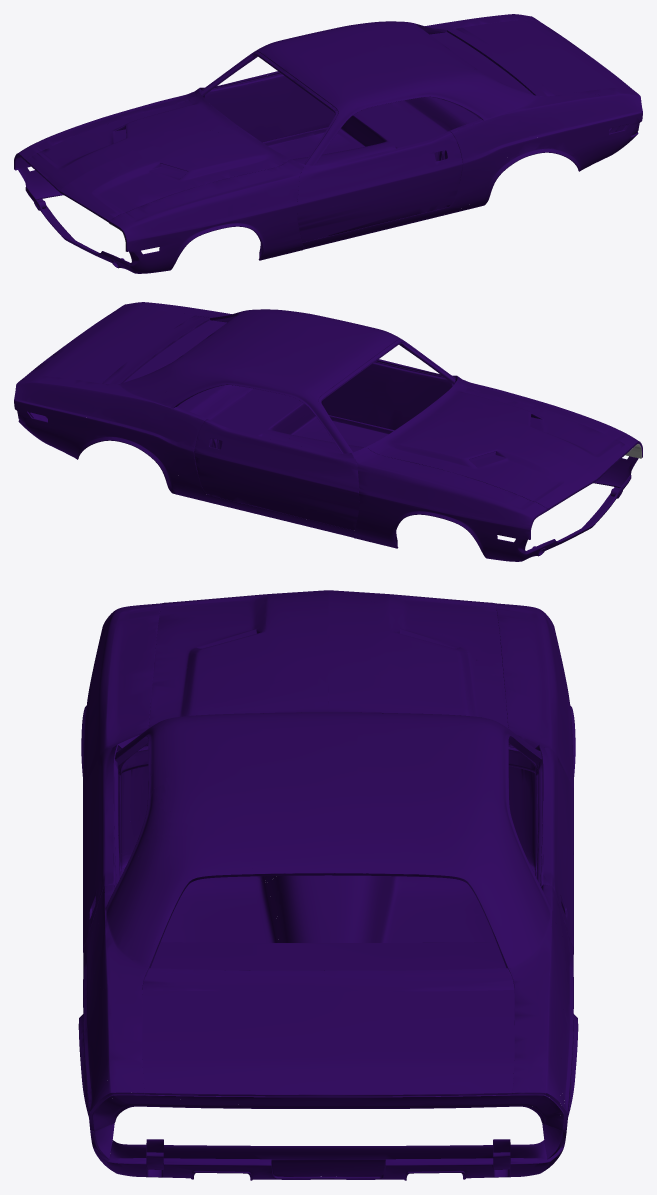
Rendered from car_body_optimised.obj.
3 views of the same model, one above another, from view 1: azimuth 30°, elevation 25°; view 2: azimuth 150°, elevation 25°; view 3: azimuth 270°, elevation 25° (orthographic). The views are drawn at different scales.
Visible parts, largest first — view 1: car_body; view 2: car_body; view 3: car_body.
Boxes of the visible parts, box(x1,y1,x2,y2) form: car_body: box(14, 14, 642, 273); car_body: box(14, 302, 642, 561); car_body: box(78, 590, 578, 1180).
Bounding box in the file's own units: 4.8 × 1.1 × 1.96.
